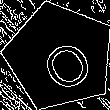O_NW: (26, 23, 92, 89)
